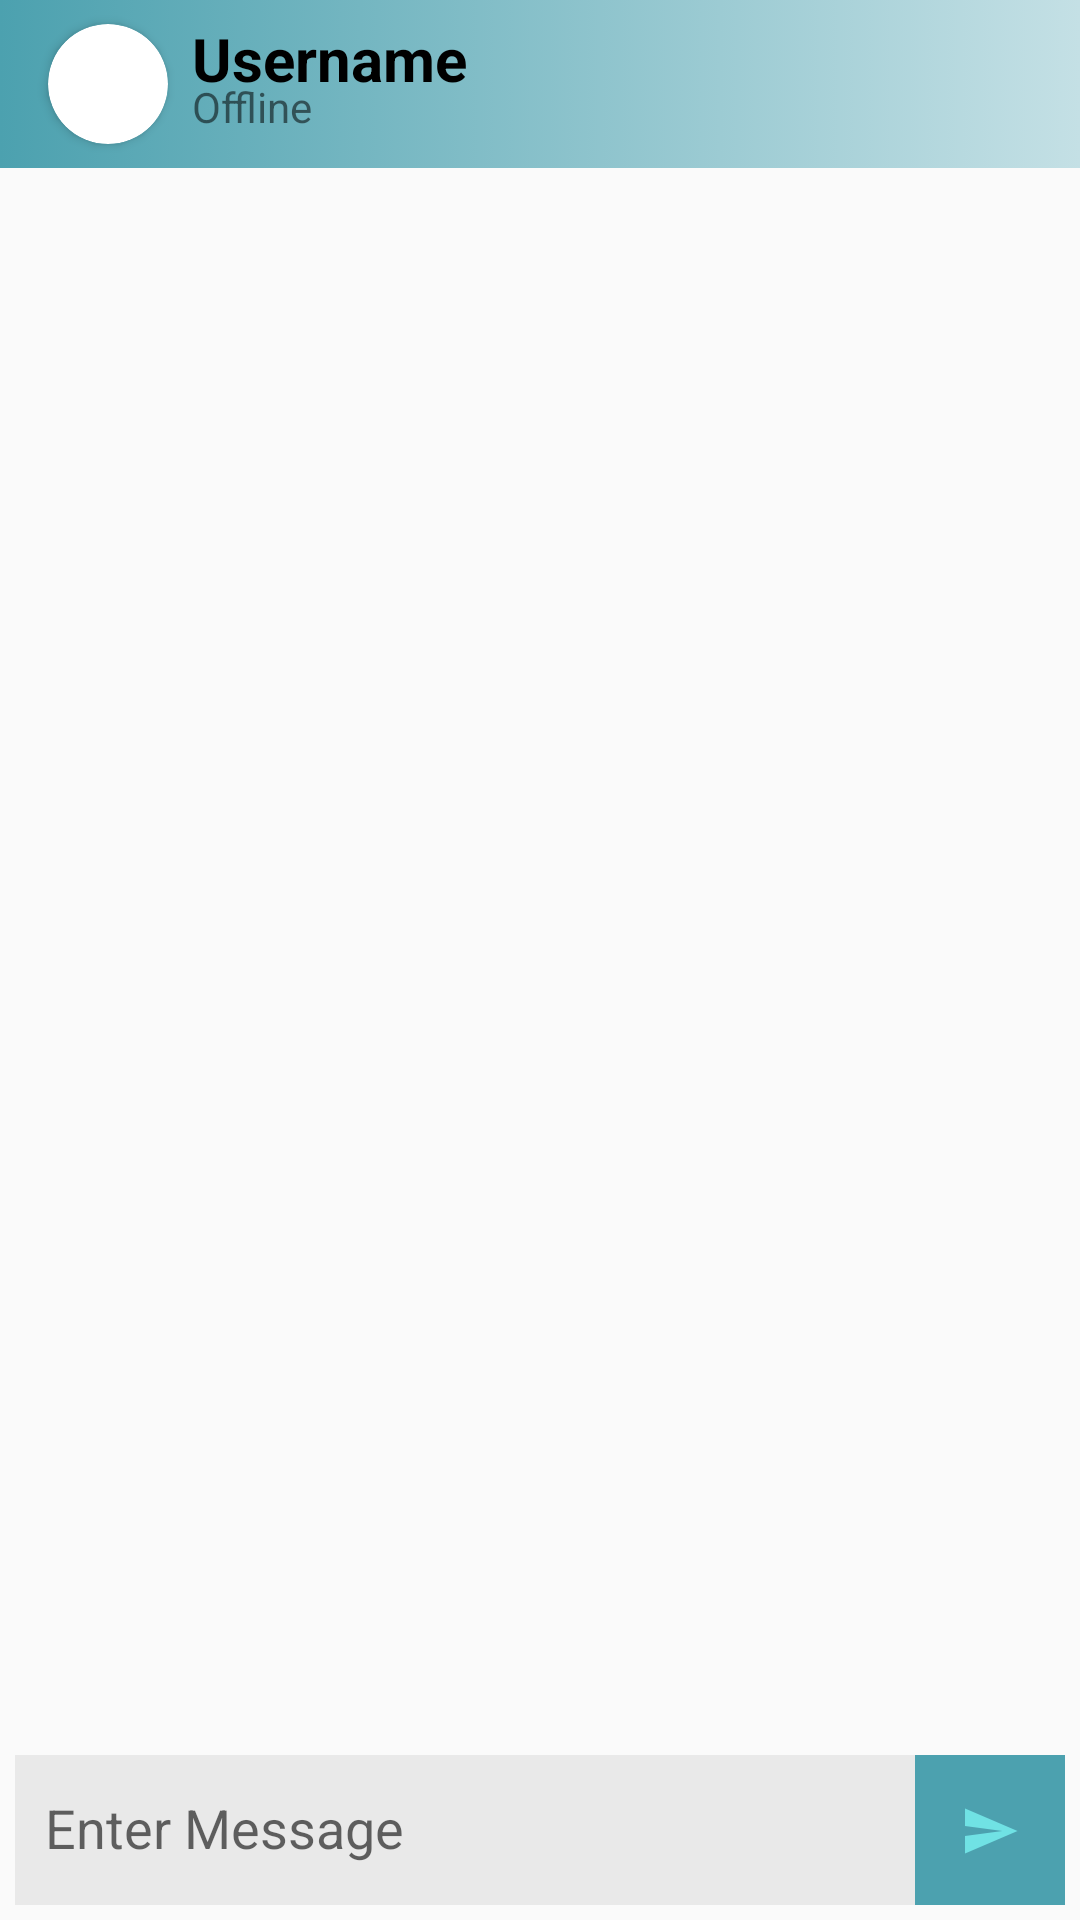

Icons on this 1080 x 1920 Android screen, each with the point to tap as (x,y):
send: (990,1830)
